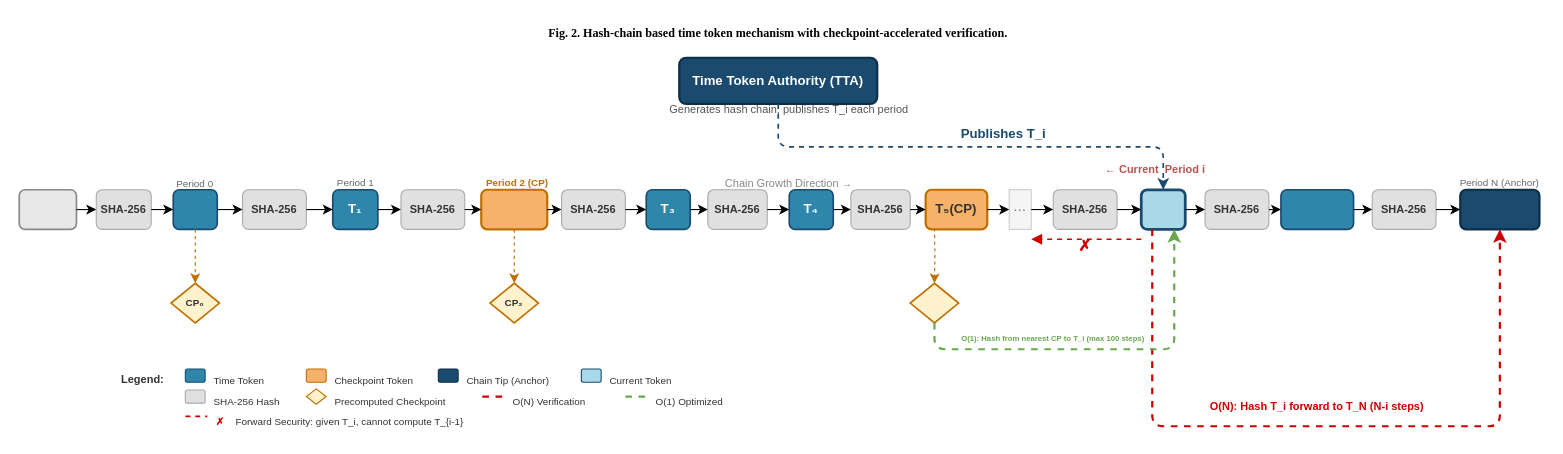
Image size: 1563x454. Some labels were removed from this diagram. Here are the shapes that lost their labels. From the top down, the centre of each, then its label:
(47,209): Seed
(195,209): T₀
(514,209): T₂(CP)
(1162,209): Tᵢ
(1317,209): Tₙ₋₁
(1499,209): Tₙ Tip
(934,302): CP₅
